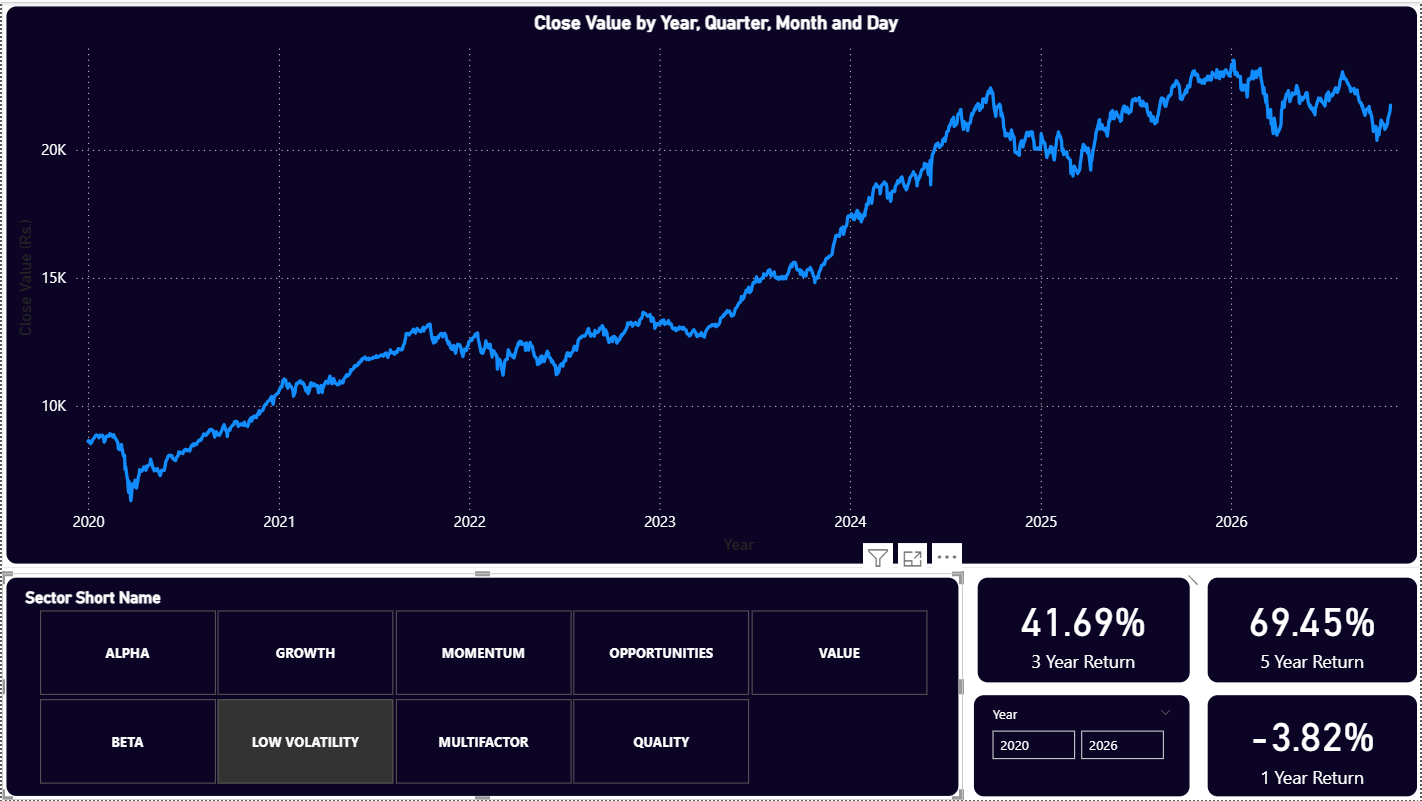

Layout of this report page (visuals, bound fields, positions):
{"tool":"powerbi","page":{"name":"Individual Report","canvas":[1280,720],"ordinal":1},"visuals":[{"type":"lineChart","title":" Close Value by Year, Quarter, Month and Day","fields":{"Category":["Date Table.Date.Variation.Date Hierarchy.Year","Date Table.Date.Variation.Date Hierarchy.Quarter","Date Table.Date.Variation.Date Hierarchy.Month","Date Table.Date.Variation.Date Hierarchy.Day"],"Y":["Max(Combine Data.Close)"]},"box":[0,0,1280.2,510.5],"z":0},{"type":"slicer","fields":{"Values":["Combine Data.Sector Short Name"]},"box":[0,515.1,866.3,204.7],"z":1000},{"type":"slicer","fields":{"Values":["Date Table.Year"]},"box":[872.1,620.9,202.3,98.8],"z":2000},{"type":"card","fields":{"Values":["Combine Data.3 Year Return"]},"box":[875.6,514.5,198.8,102.3],"z":3000},{"type":"card","fields":{"Values":["Combine Data.5 Year Return"]},"box":[1083.7,514.5,196.5,102.3],"z":4000},{"type":"card","fields":{"Values":["Combine Data.1 Year Return"]},"box":[1083.7,620.9,196.5,98.8],"z":5000}]}

Visuals, with their boxes in screenshot pixels (x1, y1, x2, y2), scaled from the page's 1280x720 canvas onto the 1422x801 screenshot:
" Close Value by Year, Quarter, Month and Day" lineChart: rect(0, 0, 1421, 568)
slicer - Combine Data.Sector Short Name: rect(0, 573, 962, 800)
slicer - Date Table.Year: rect(969, 691, 1194, 800)
card - Combine Data.3 Year Return: rect(973, 572, 1194, 686)
card - Combine Data.5 Year Return: rect(1204, 572, 1421, 686)
card - Combine Data.1 Year Return: rect(1204, 691, 1421, 800)
